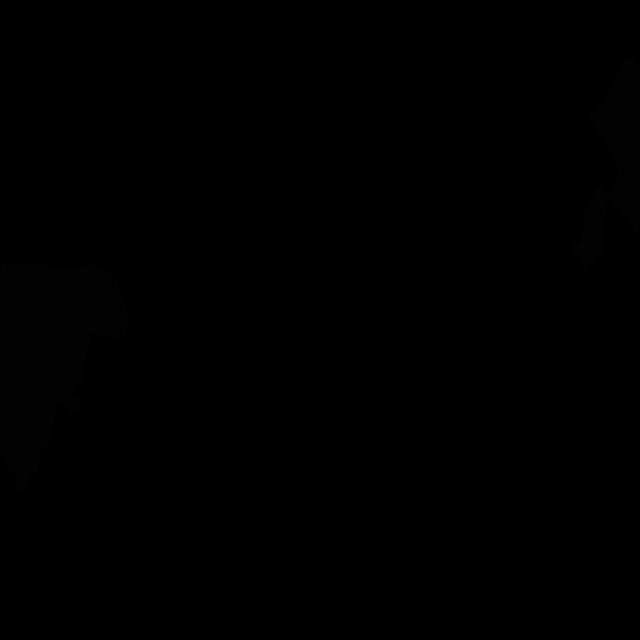cardboard: (0, 262, 128, 492), (588, 56, 640, 215), (570, 178, 640, 270)
